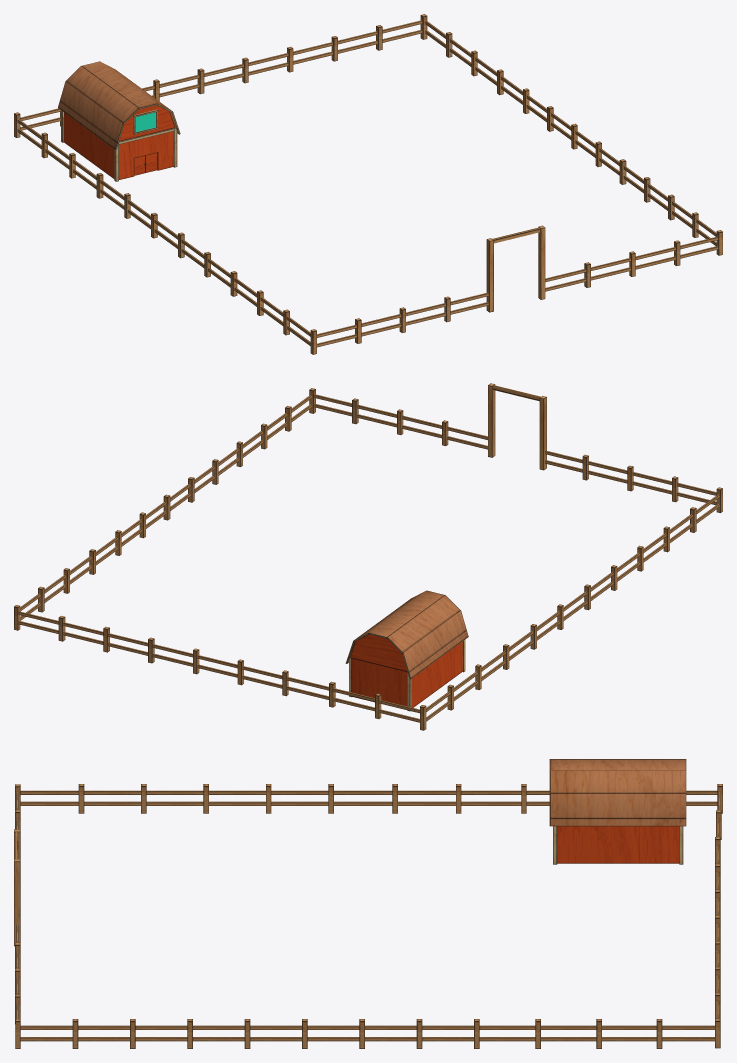
3 views of the same model, one above another, from view 1: azimuth 30°, elevation 25°; view 2: azimuth 150°, elevation 25°; view 3: azimuth 270°, elevation 25° (orthographic). The views are drawn at different scales.
Visible parts, largest first — view 1: Farm2; view 2: Farm2; view 3: Farm2.
Part boxes in pixels (left/top/right/bottom): Farm2: left=14, top=14, right=722, bottom=354; Farm2: left=14, top=383, right=722, bottom=730; Farm2: left=14, top=759, right=722, bottom=1048.
Size of the model in its own units: 710 by 118 by 896.
